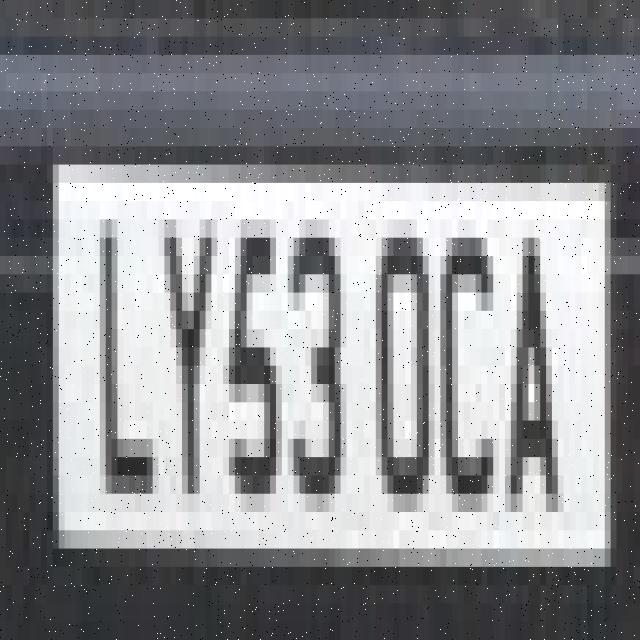licenseplate: (23, 113, 622, 596)
